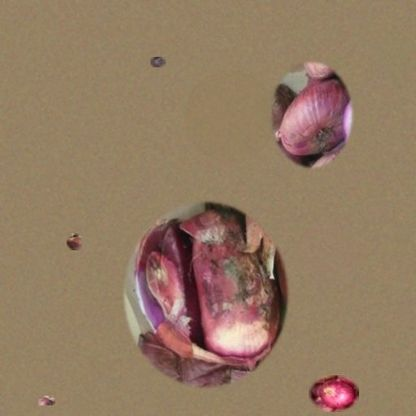damaged: (119, 197, 292, 392)
healthy: (269, 59, 354, 171), (309, 375, 359, 412)
rotten: (150, 57, 166, 67)
sprouted: (67, 233, 82, 250), (38, 396, 55, 405)
